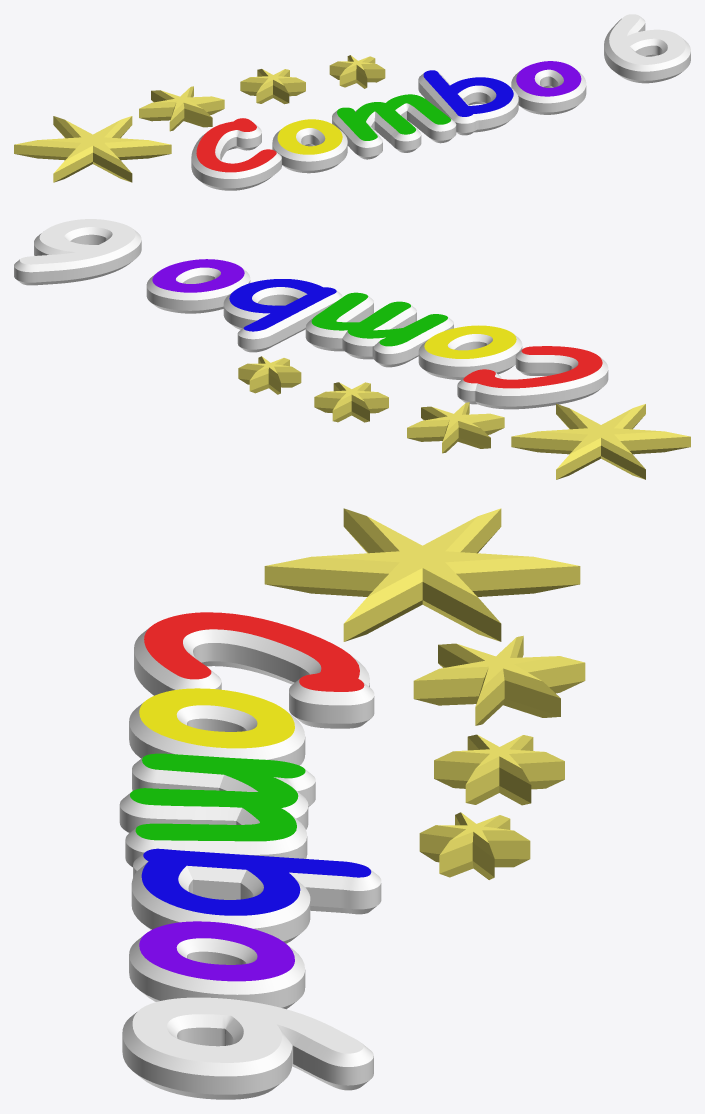
File: combo6.FBX
The picture shows the model from 3 angles, top to bottom: view 1: azimuth 30°, elevation 25°; view 2: azimuth 150°, elevation 25°; view 3: azimuth 270°, elevation 25°; orthographic projection. The views are drawn at different scales.
Visible parts, largest first — view 1: Text001, Star001, Text002, Star002, Star003, Star004; view 2: Text001, Star001, Text002, Star002, Star003, Star004; view 3: Text001, Star001, Text002, Star002, Star003, Star004.
Boxes of the visible parts, left/top/right/bottom form: Text001: left=191, top=61, right=586, bottom=190; Star001: left=14, top=116, right=171, bottom=182; Text002: left=604, top=14, right=690, bottom=83; Star002: left=139, top=86, right=224, bottom=131; Star003: left=240, top=69, right=305, bottom=104; Star004: left=329, top=55, right=385, bottom=88; Text001: left=146, top=259, right=608, bottom=409; Star001: left=511, top=403, right=690, bottom=479; Text002: left=14, top=219, right=141, bottom=285; Star002: left=407, top=402, right=504, bottom=453; Star003: left=314, top=382, right=388, bottom=422; Star004: left=238, top=356, right=301, bottom=394; Text001: left=119, top=612, right=381, bottom=1009; Star001: left=264, top=508, right=580, bottom=641; Text002: left=122, top=997, right=373, bottom=1099; Star002: left=413, top=635, right=585, bottom=725; Star003: left=434, top=734, right=564, bottom=805; Star004: left=419, top=812, right=530, bottom=879.
Bounding box in the file's own units: 0.2737 × 0.0918 × 0.012.
